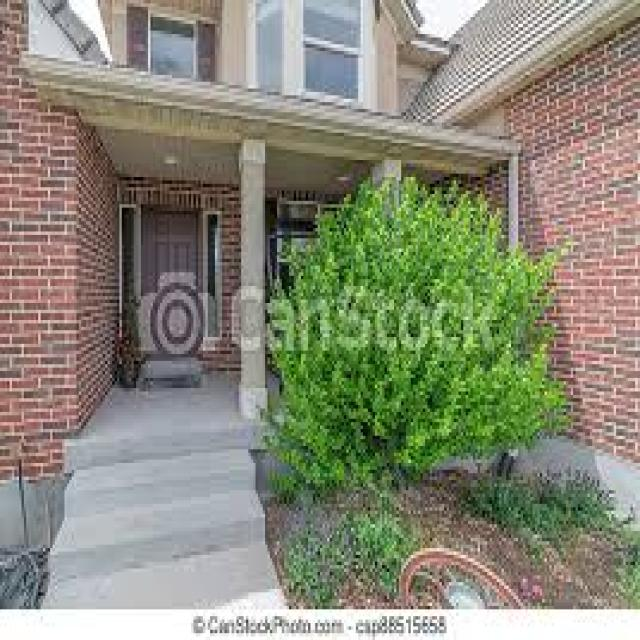upstair: (34, 437, 290, 610)
